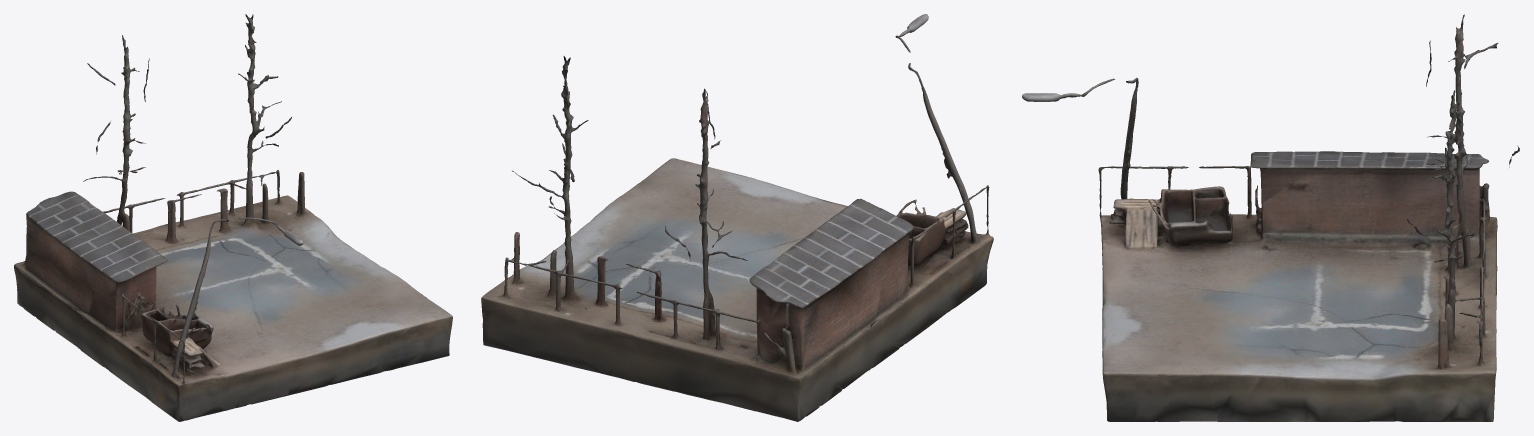
File: kallio-backyard-3d-v01.glb
The picture shows the model from 3 angles, left to right: view 1: azimuth 30°, elevation 25°; view 2: azimuth 150°, elevation 25°; view 3: azimuth 270°, elevation 25°; orthographic projection. The views are drawn at different scales.
Size of the model in its own units: 1.53 by 1.35 by 2.
1 material, 1 textured.
